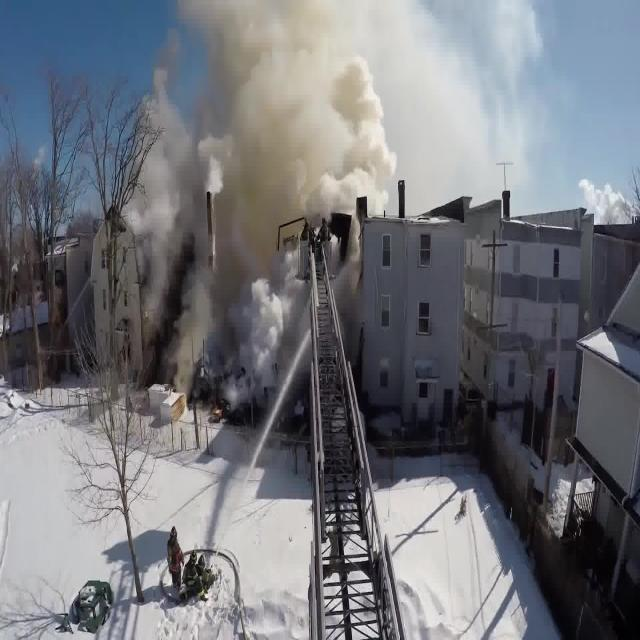Smoke: (142, 0, 384, 371)
